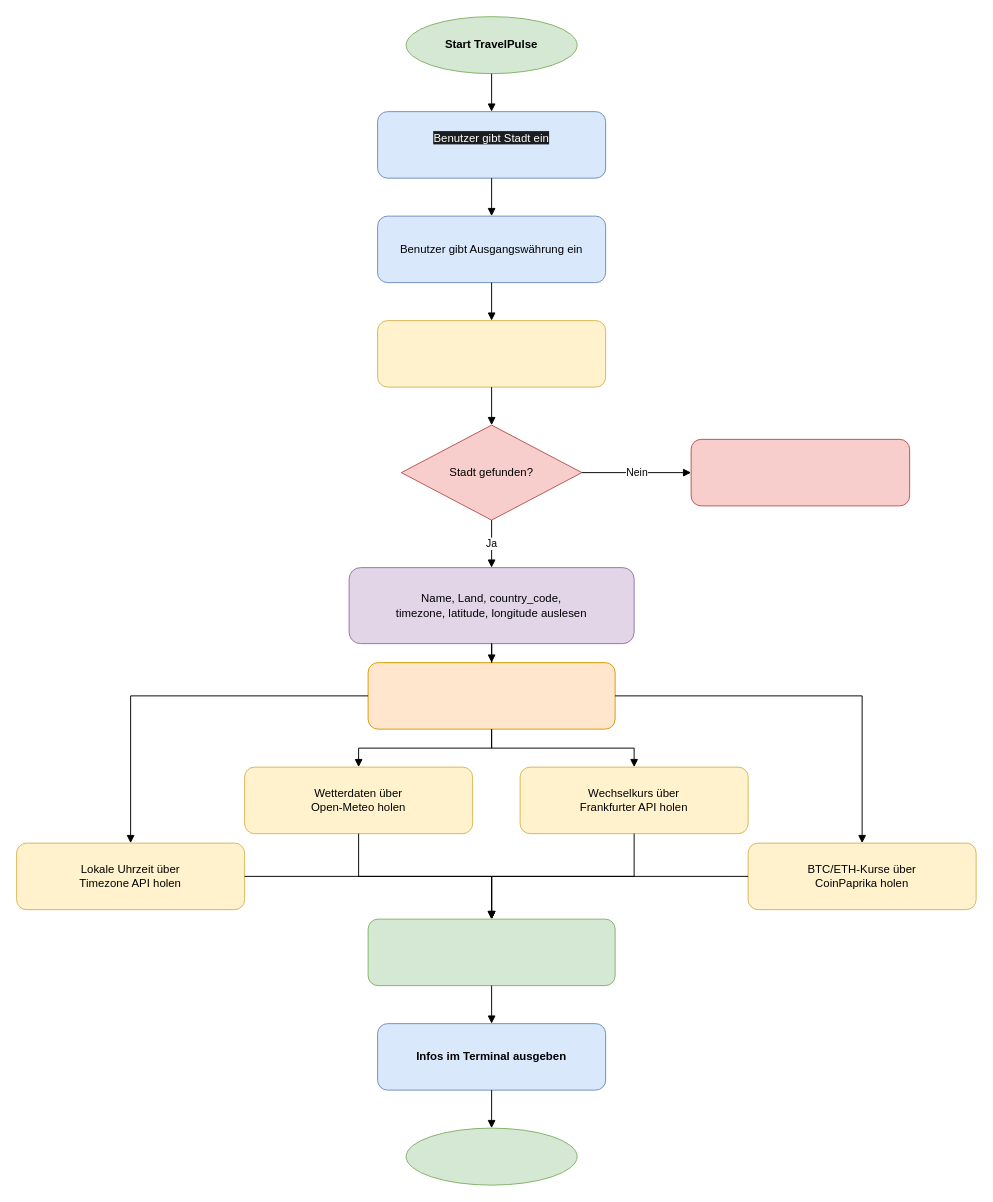
Some shapes in this 993 by 1202 pixel diagram are drawn without their labels. Here are the shapes that lost their labels. From the top down, the box of each, then its label:
(377, 320, 606, 387): Geocoding API aufrufen (Open-Meteo)
(690, 438, 910, 506): Fehlermeldung: Stadt nicht gefunden
(367, 662, 615, 729): Zielwährung anhand des Landes bestimmen
(367, 918, 615, 986): Daten formatieren (Uhrzeit, Wettertext, Zahlen)
(405, 1127, 577, 1185): Ende
